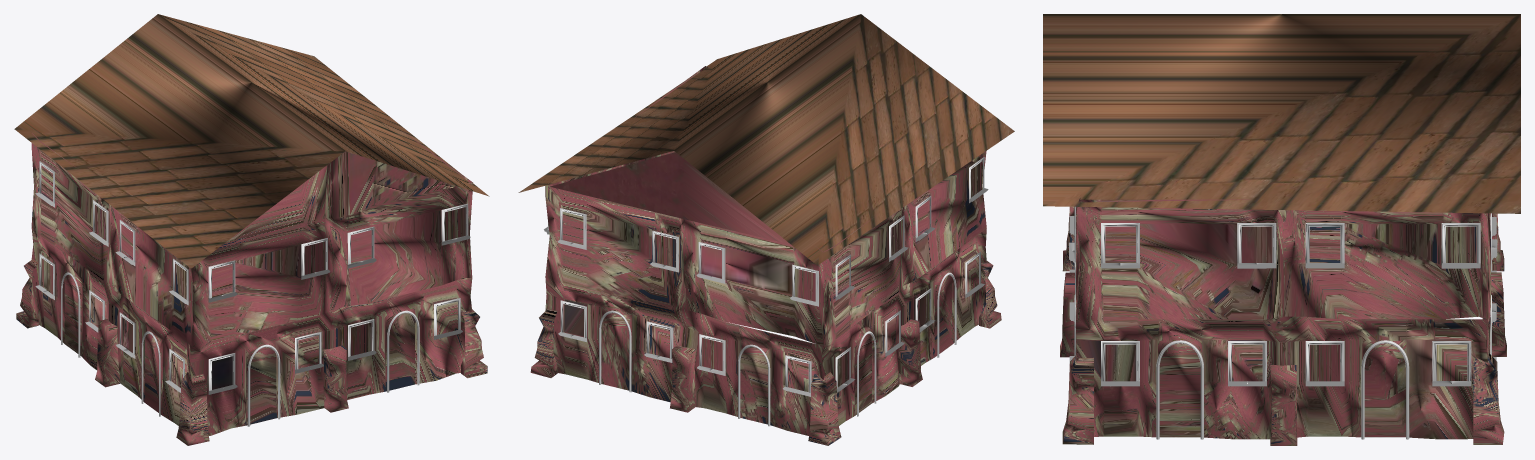
Rendered from colonial_a.glb.
The picture shows the model from 3 angles, left to right: view 1: azimuth 30°, elevation 25°; view 2: azimuth 150°, elevation 25°; view 3: azimuth 270°, elevation 25°; orthographic projection. The views are drawn at different scales.
Visible parts, largest first — view 1: building_base, Plane.013, Cube.001; view 2: building_base, Plane.013, Cube.001; view 3: building_base, Plane.013, Cube.001.
Boxes of the visible parts, <box> form: building_base: <box>16,132,487,445</box>; Plane.013: <box>14,14,489,268</box>; Cube.001: <box>35,161,470,426</box>; building_base: <box>530,66,1001,445</box>; Plane.013: <box>518,14,1014,265</box>; Cube.001: <box>544,157,988,426</box>; building_base: <box>1060,197,1506,445</box>; Plane.013: <box>1043,14,1520,213</box>; Cube.001: <box>1069,206,1497,439</box>.
Size of the model in its own units: 11.68 by 9.5 by 12.21.
3 materials, 2 textured.
